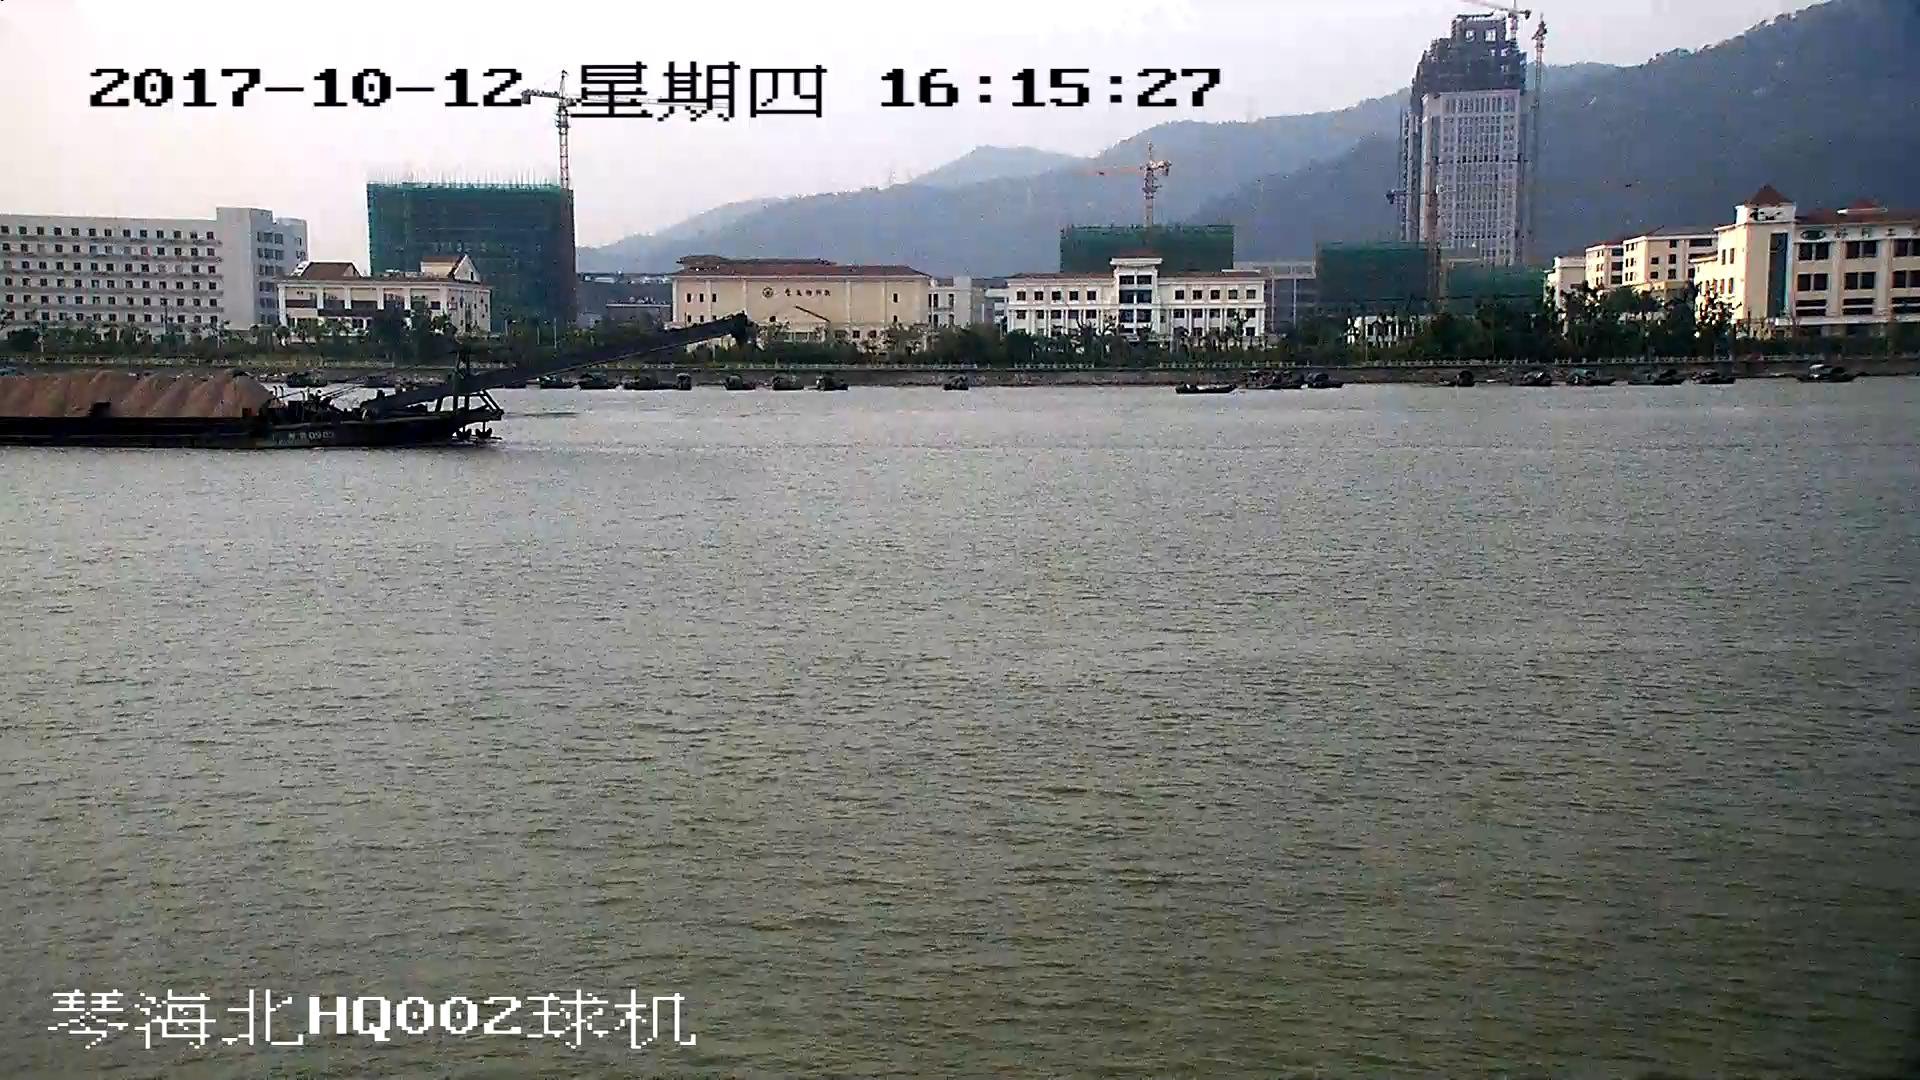ore carrier: (1, 317, 741, 447)
